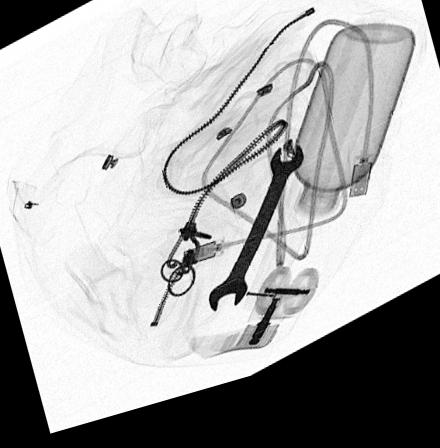Wrench: (206, 155, 303, 325)
